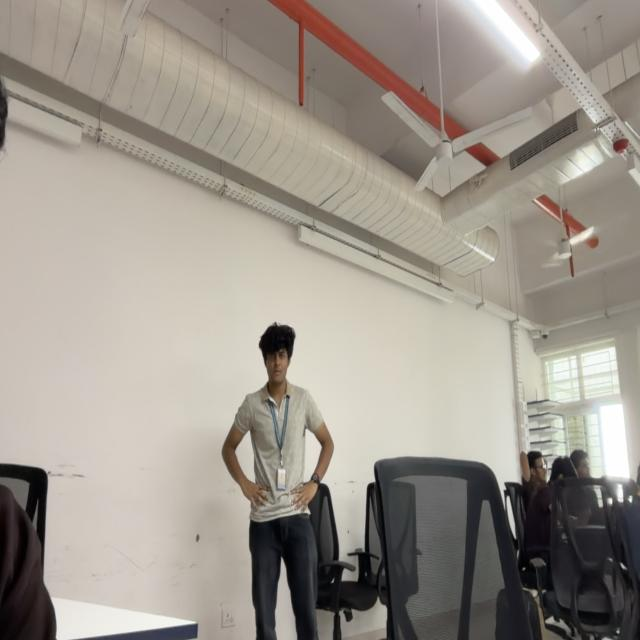kshitij: (260, 324, 295, 384)
